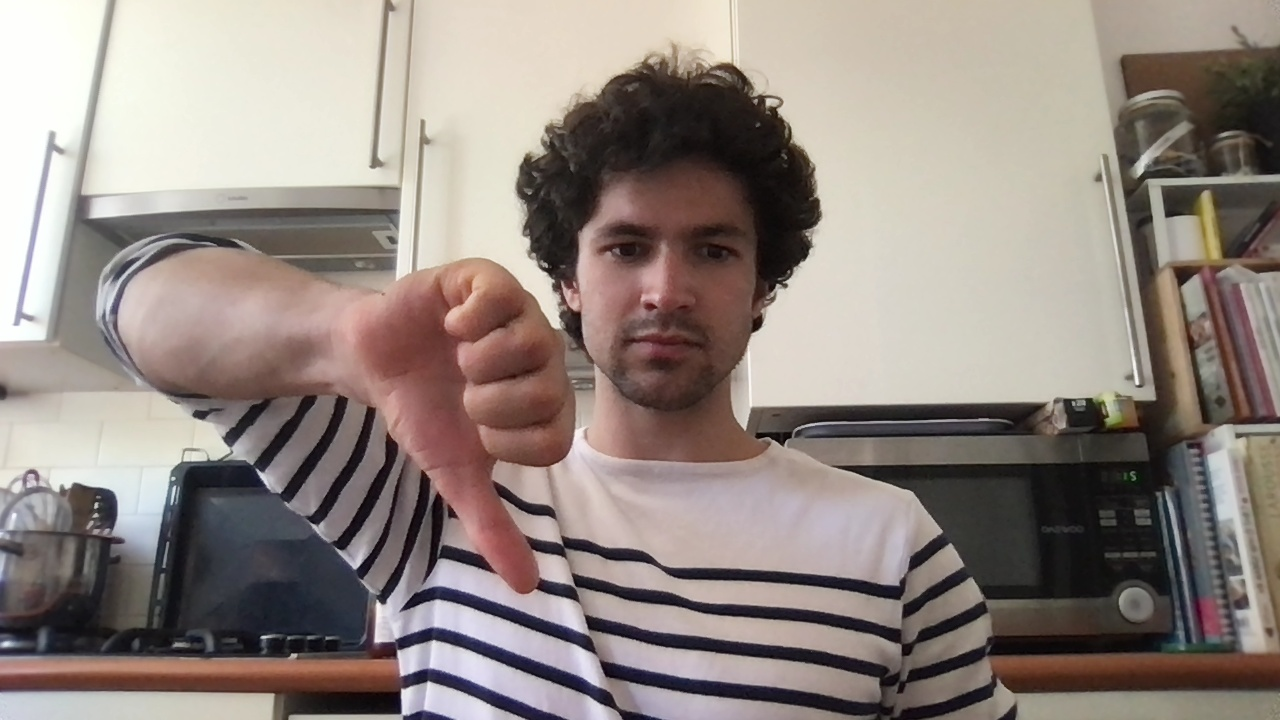thumbDown: (370, 257, 577, 596)
